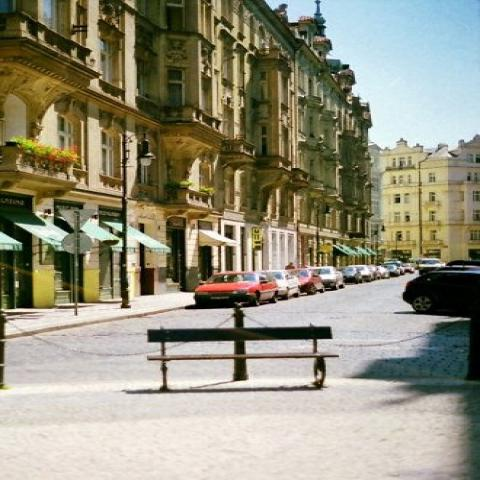car: (402, 270, 476, 314), (194, 270, 280, 307), (257, 270, 300, 300), (290, 268, 327, 295), (309, 266, 346, 291), (348, 264, 381, 284), (338, 266, 365, 285), (418, 258, 449, 274), (372, 265, 390, 278), (382, 264, 400, 276), (397, 262, 414, 274)
